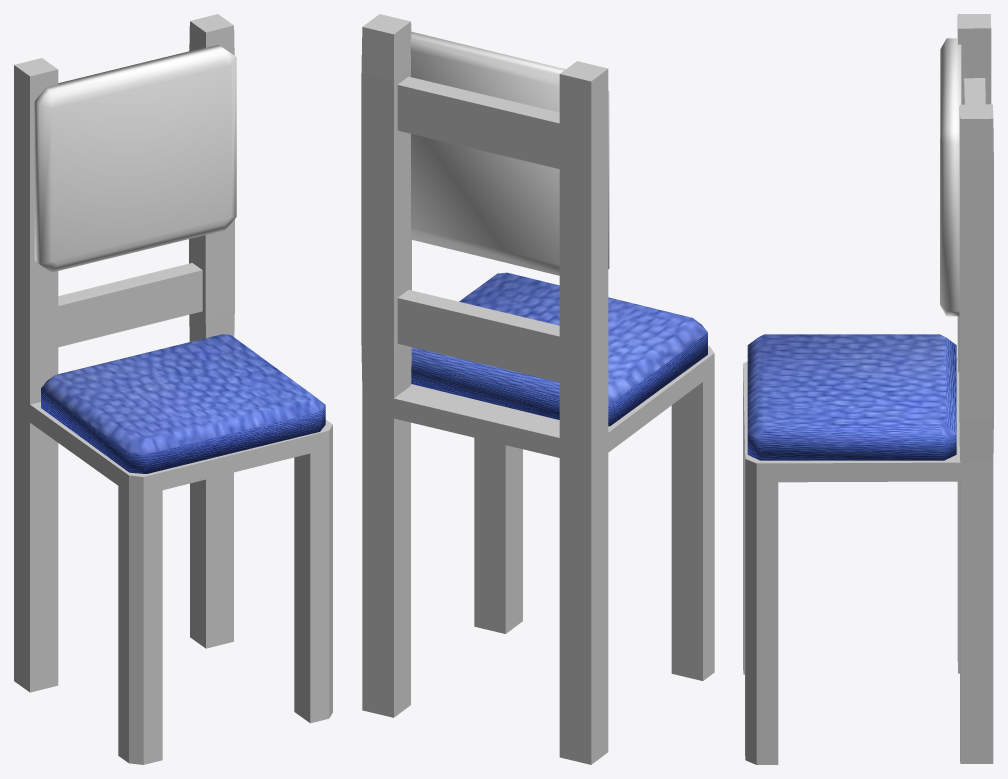
Rendered from silla.glb.
The picture shows the model from 3 angles, left to right: view 1: azimuth 30°, elevation 25°; view 2: azimuth 150°, elevation 25°; view 3: azimuth 270°, elevation 25°; orthographic projection. The views are drawn at different scales.
Parts seen in each view (by area): view 1: Silla, Back, Seat; view 2: Silla, Back, Seat; view 3: Silla, Seat, Back.
Part boxes in pixels (box(x1,y1,x2,y2)): Silla: box(14, 14, 332, 764); Back: box(34, 44, 236, 272); Seat: box(41, 334, 325, 473); Silla: box(361, 14, 714, 764); Back: box(410, 31, 609, 275); Seat: box(411, 272, 707, 426); Silla: box(743, 14, 993, 764); Seat: box(747, 334, 956, 460); Back: box(940, 38, 961, 316).
Size of the model in its own units: 0.9742 by 2.77 by 0.9765.
3 materials, 1 textured.
